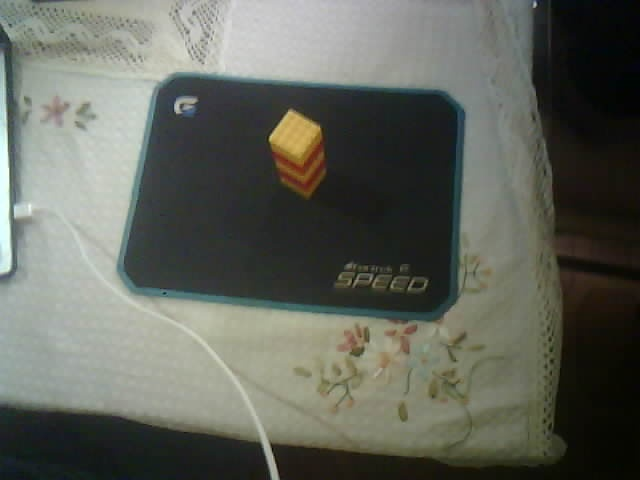lego: (267, 107, 328, 199)
